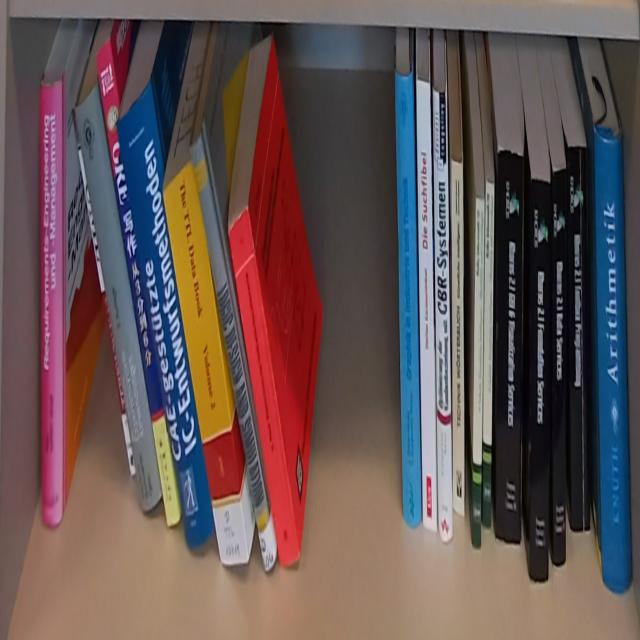Book Spine: (118, 82, 214, 543), (96, 38, 180, 526), (190, 126, 278, 568), (75, 82, 162, 509), (163, 159, 249, 566), (229, 205, 301, 566), (595, 127, 633, 594), (394, 69, 422, 528), (496, 148, 525, 547), (41, 77, 65, 525), (417, 77, 437, 533), (433, 85, 453, 541), (568, 147, 590, 535), (530, 178, 551, 584), (450, 158, 465, 519), (554, 166, 567, 567), (472, 198, 485, 549), (483, 177, 495, 527)
